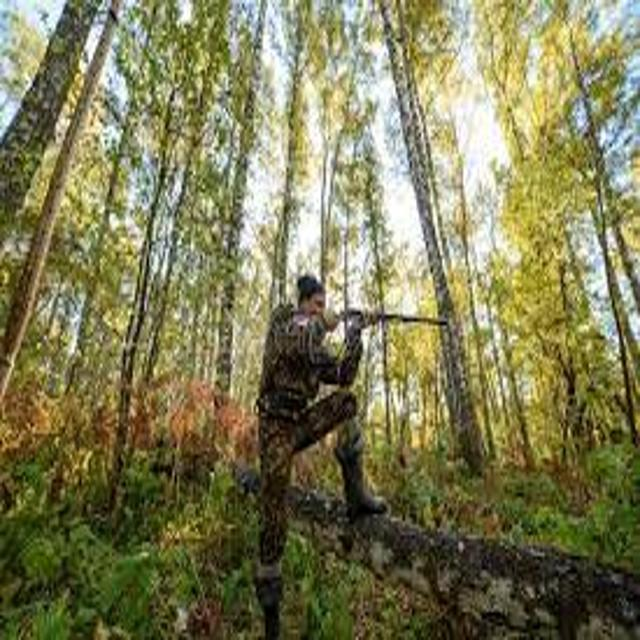gun: (300, 286, 468, 359)
poacher: (214, 252, 425, 640)
